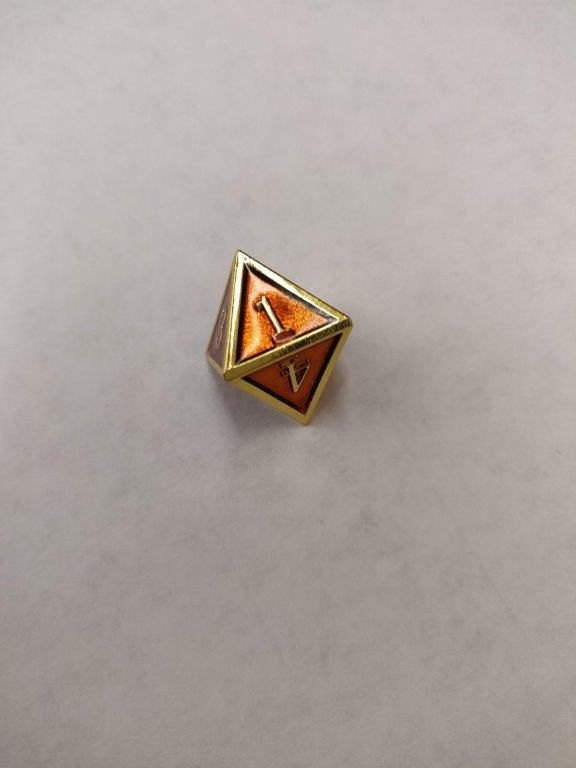d8-1: (207, 249, 353, 422)
